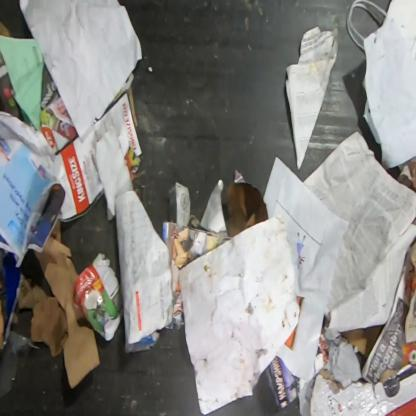cardboard: (309, 363, 415, 415)
soft_plastic: (73, 252, 124, 342)
